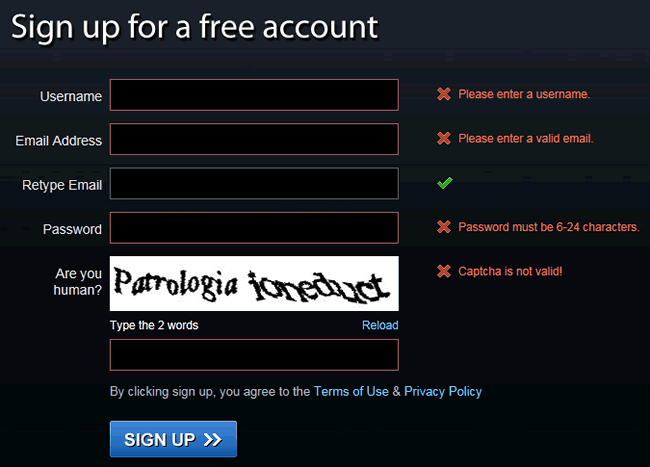error_field: (108, 337, 400, 372), (109, 77, 400, 112), (107, 210, 400, 244), (108, 122, 400, 156)
error_message: (455, 218, 640, 236), (453, 130, 592, 148), (456, 85, 591, 103), (456, 262, 566, 278)
